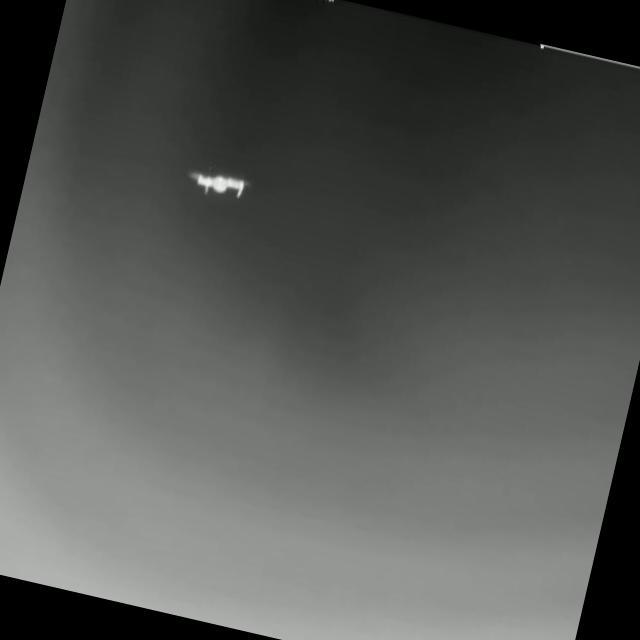DRONE: (185, 170, 257, 201)
